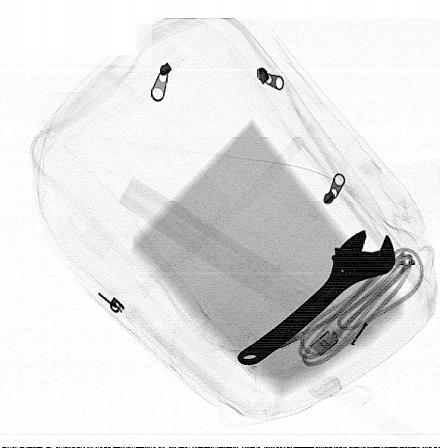Wrench: (237, 227, 397, 368)
